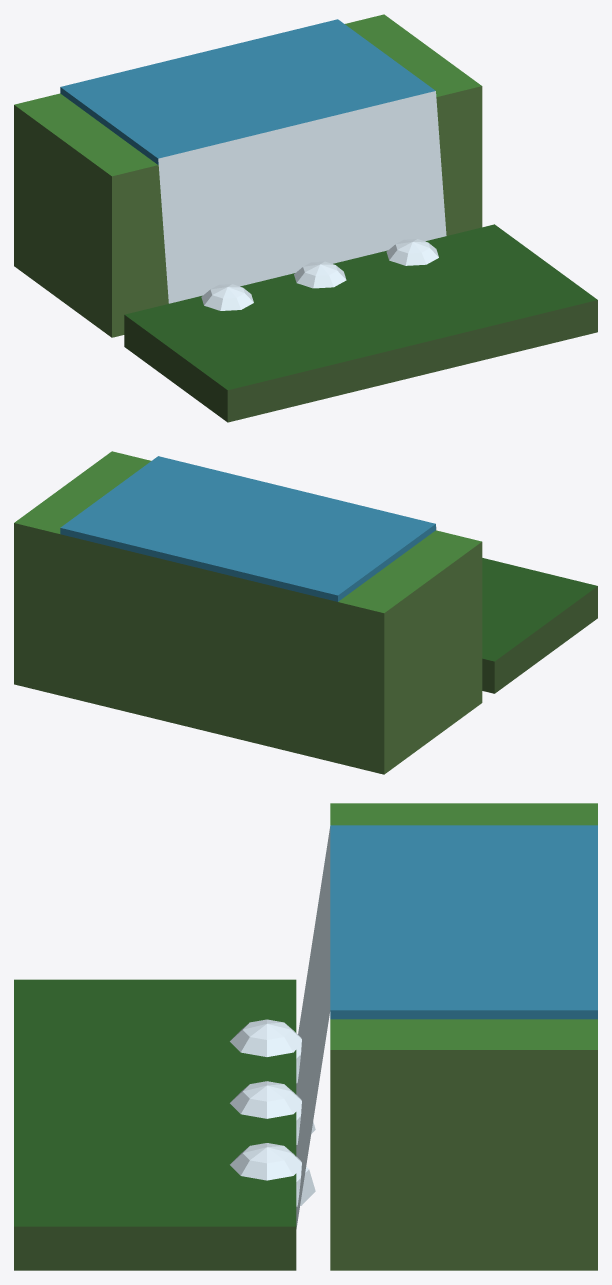
Rendered from victoria_falls.glb.
The picture shows the model from 3 angles, top to bottom: view 1: azimuth 30°, elevation 25°; view 2: azimuth 150°, elevation 25°; view 3: azimuth 270°, elevation 25°; orthographic projection. The views are drawn at different scales.
Parts seen in each view (by area): view 1: victoria_falls; view 2: victoria_falls; view 3: victoria_falls.
Part boxes in pixels (box(x1,y1,x2,y2)): victoria_falls: box(14, 14, 597, 422); victoria_falls: box(14, 451, 597, 774); victoria_falls: box(14, 803, 597, 1270).
Bounding box in the file's own units: 1.2 × 0.52 × 1.2.
